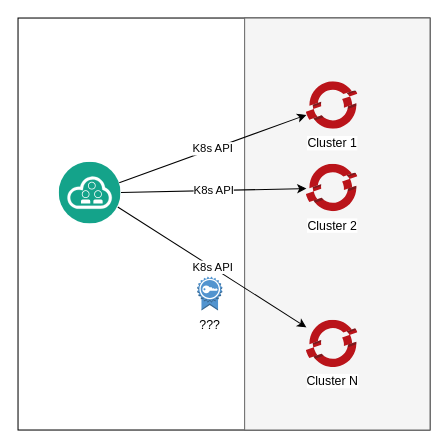
Some shapes in this 448 by 448 pixel diagram are drawn without their labels. Each missing label, with the box of its shape:
Managed clusters: (244, 17, 430, 430)
OpenShift Hive: (59, 162, 121, 224)
